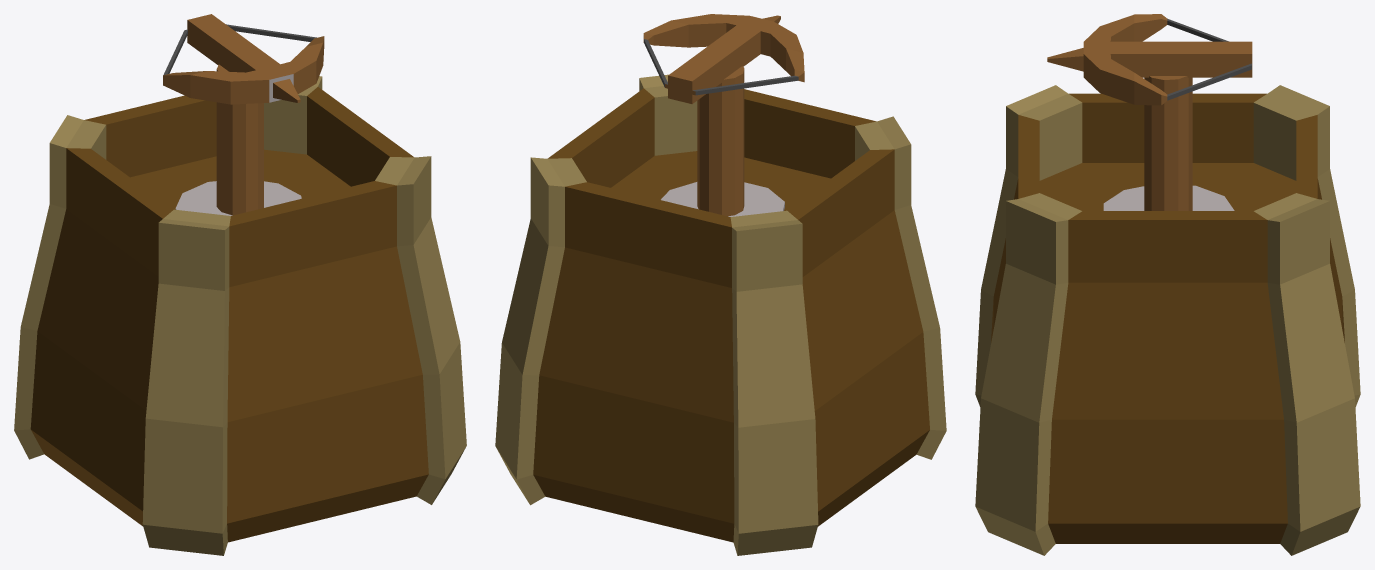
Rendered from Torre_Nv1.glb.
The picture shows the model from 3 angles, left to right: view 1: azimuth 30°, elevation 25°; view 2: azimuth 150°, elevation 25°; view 3: azimuth 270°, elevation 25°; orthographic projection. The views are drawn at different scales.
Visible parts, largest first — view 1: NIVEL1, Turret.003; view 2: NIVEL1, Turret.003; view 3: NIVEL1, Turret.003.
Part boxes in pixels (x1=…): NIVEL1: x1=14, y1=76, x2=466, y2=555; Turret.003: x1=163, y1=14, x2=324, y2=215; NIVEL1: x1=495, y1=74, x2=946, y2=555; Turret.003: x1=643, y1=14, x2=804, y2=216; NIVEL1: x1=975, y1=85, x2=1360, y2=555; Turret.003: x1=1047, y1=14, x2=1252, y2=210.
Bounding box in the file's own units: 1.02 × 1.26 × 1.02.
